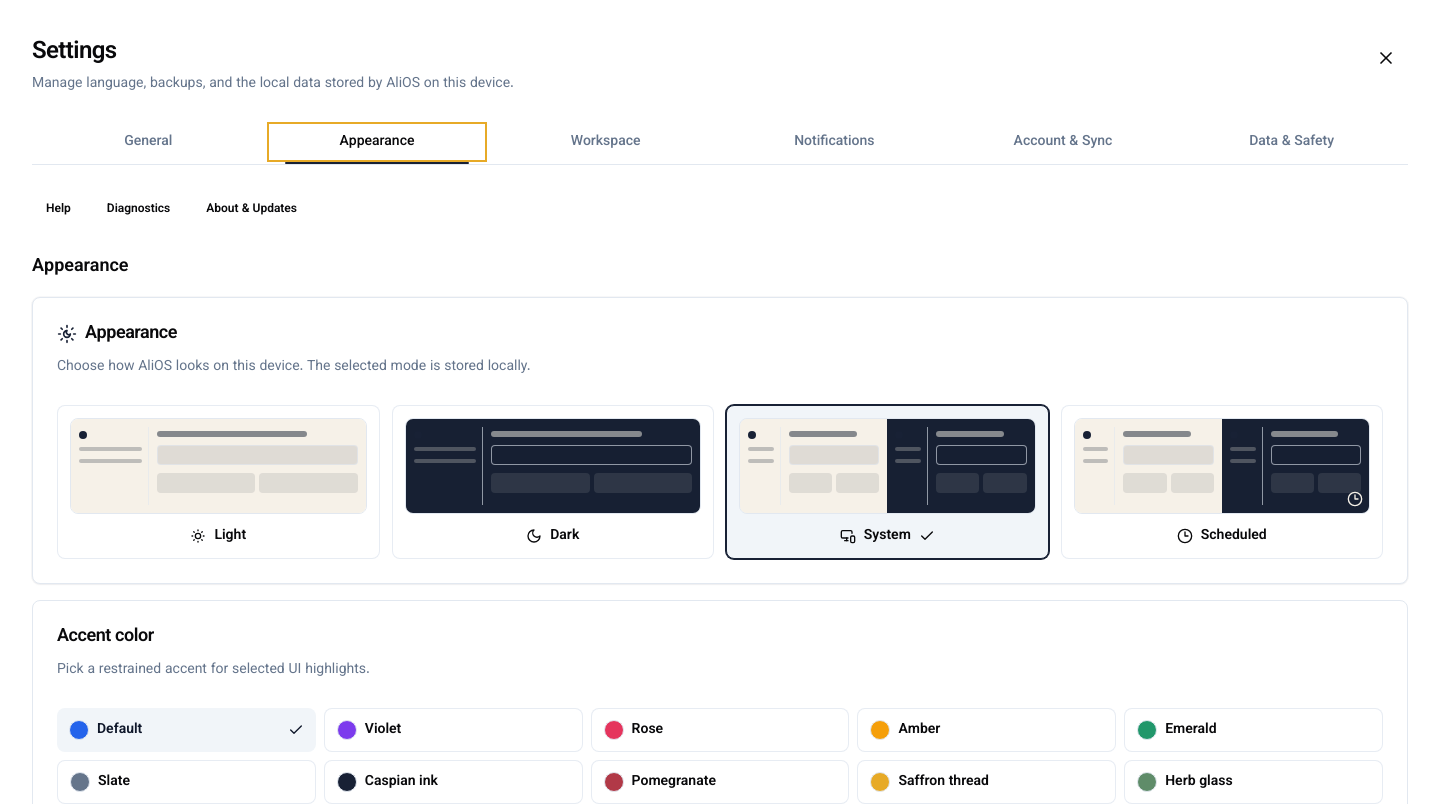
Scenario: Settings route and existing data entry points › does not select a theme whose local write fails and allows retry
Step 1. Click the button "Dark" → (553, 482), box x1=392 y1=405 x2=714 y2=559
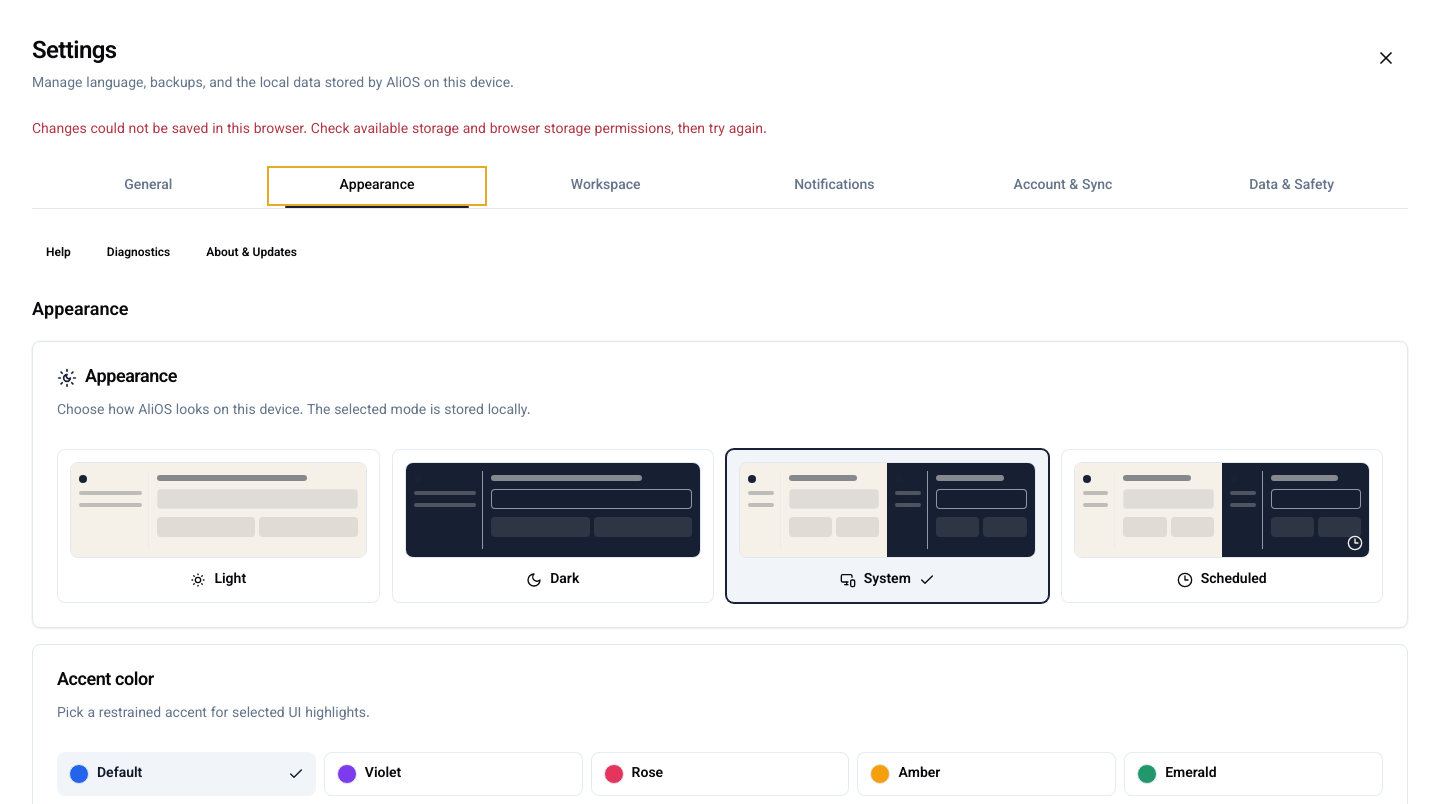
Check: the message shows "Changes could not be saved in this browser. Check available storage and browser storage permissions, then try again.", box x1=32 y1=119 x2=767 y2=141
Step 2. Click the button "Dark" → (553, 526), box x1=392 y1=449 x2=714 y2=603
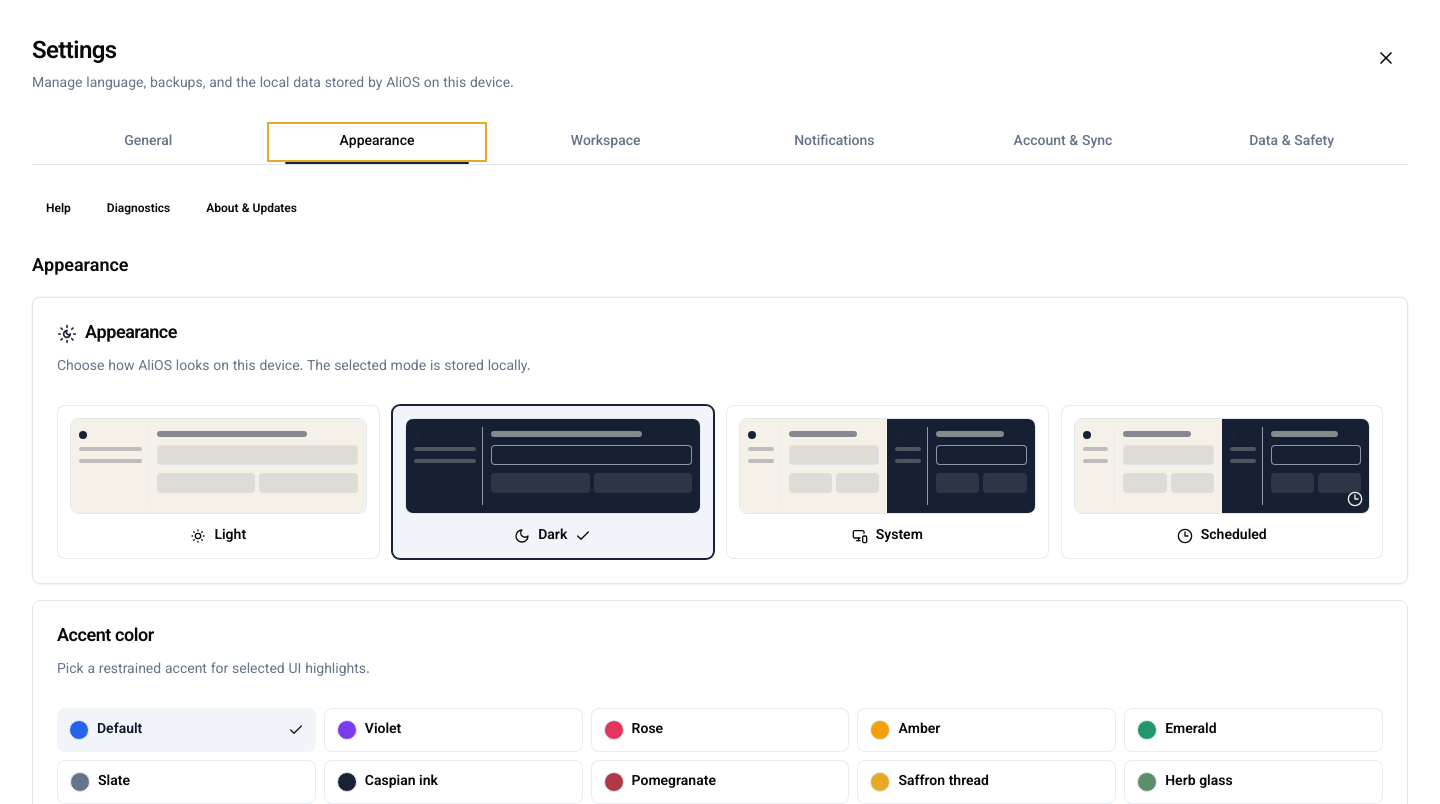
Check: the message "Changes could not be saved in this browser. Check available storage and browser" is gone
